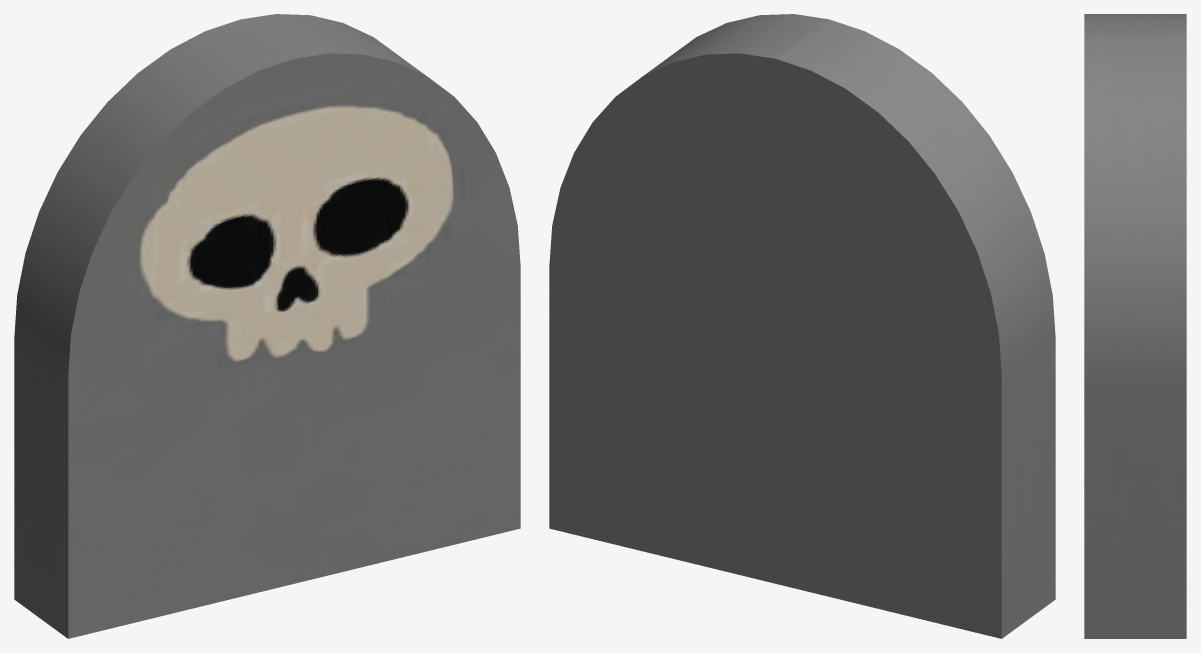
Rendered from tumba1.obj.
3 renders of one model, left to right at view 1: azimuth 30°, elevation 25°; view 2: azimuth 150°, elevation 25°; view 3: azimuth 270°, elevation 25°, orthographic. The views are drawn at different scales.
Parts seen in each view (by area): view 1: Cube; view 2: Cube; view 3: Cube.
Boxes of the visible parts, x1,y1,x2,y2 form: Cube: (14, 14, 520, 638); Cube: (549, 14, 1055, 638); Cube: (1084, 14, 1186, 638).
Size of the model in its own units: 3.19 by 3.54 by 0.6576.
Materials: 1 (1 with a texture image).
